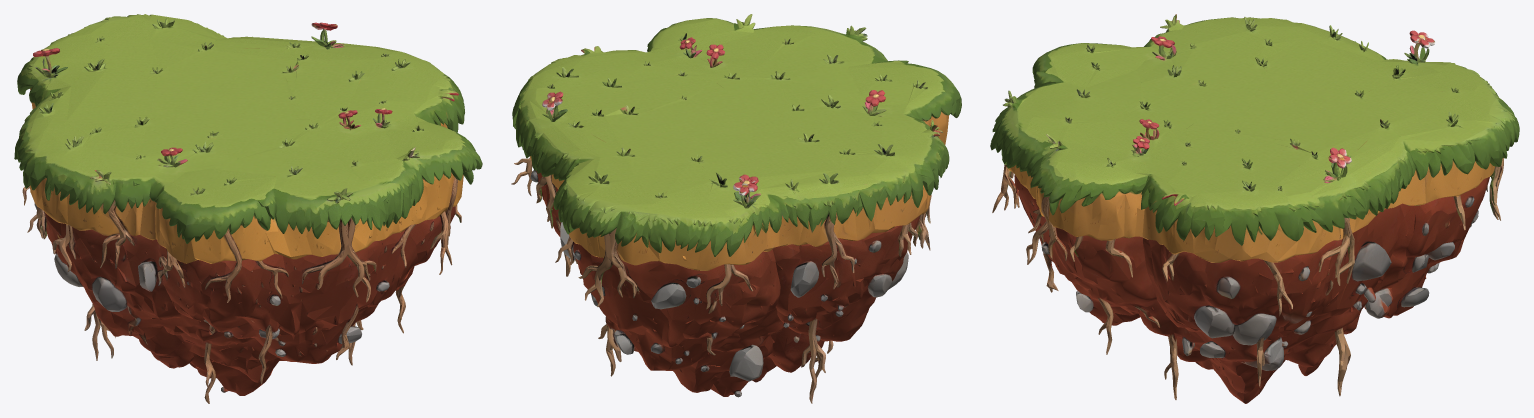
File: isla.glb
3 renders of one model, left to right at view 1: azimuth 30°, elevation 25°; view 2: azimuth 150°, elevation 25°; view 3: azimuth 270°, elevation 25°, orthographic. The views are drawn at different scales.
Bounding box in the file's own units: 1.73 × 1.25 × 1.9.
1 material, 1 textured.
